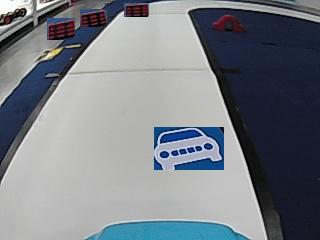bridge: (213, 14, 242, 31)
